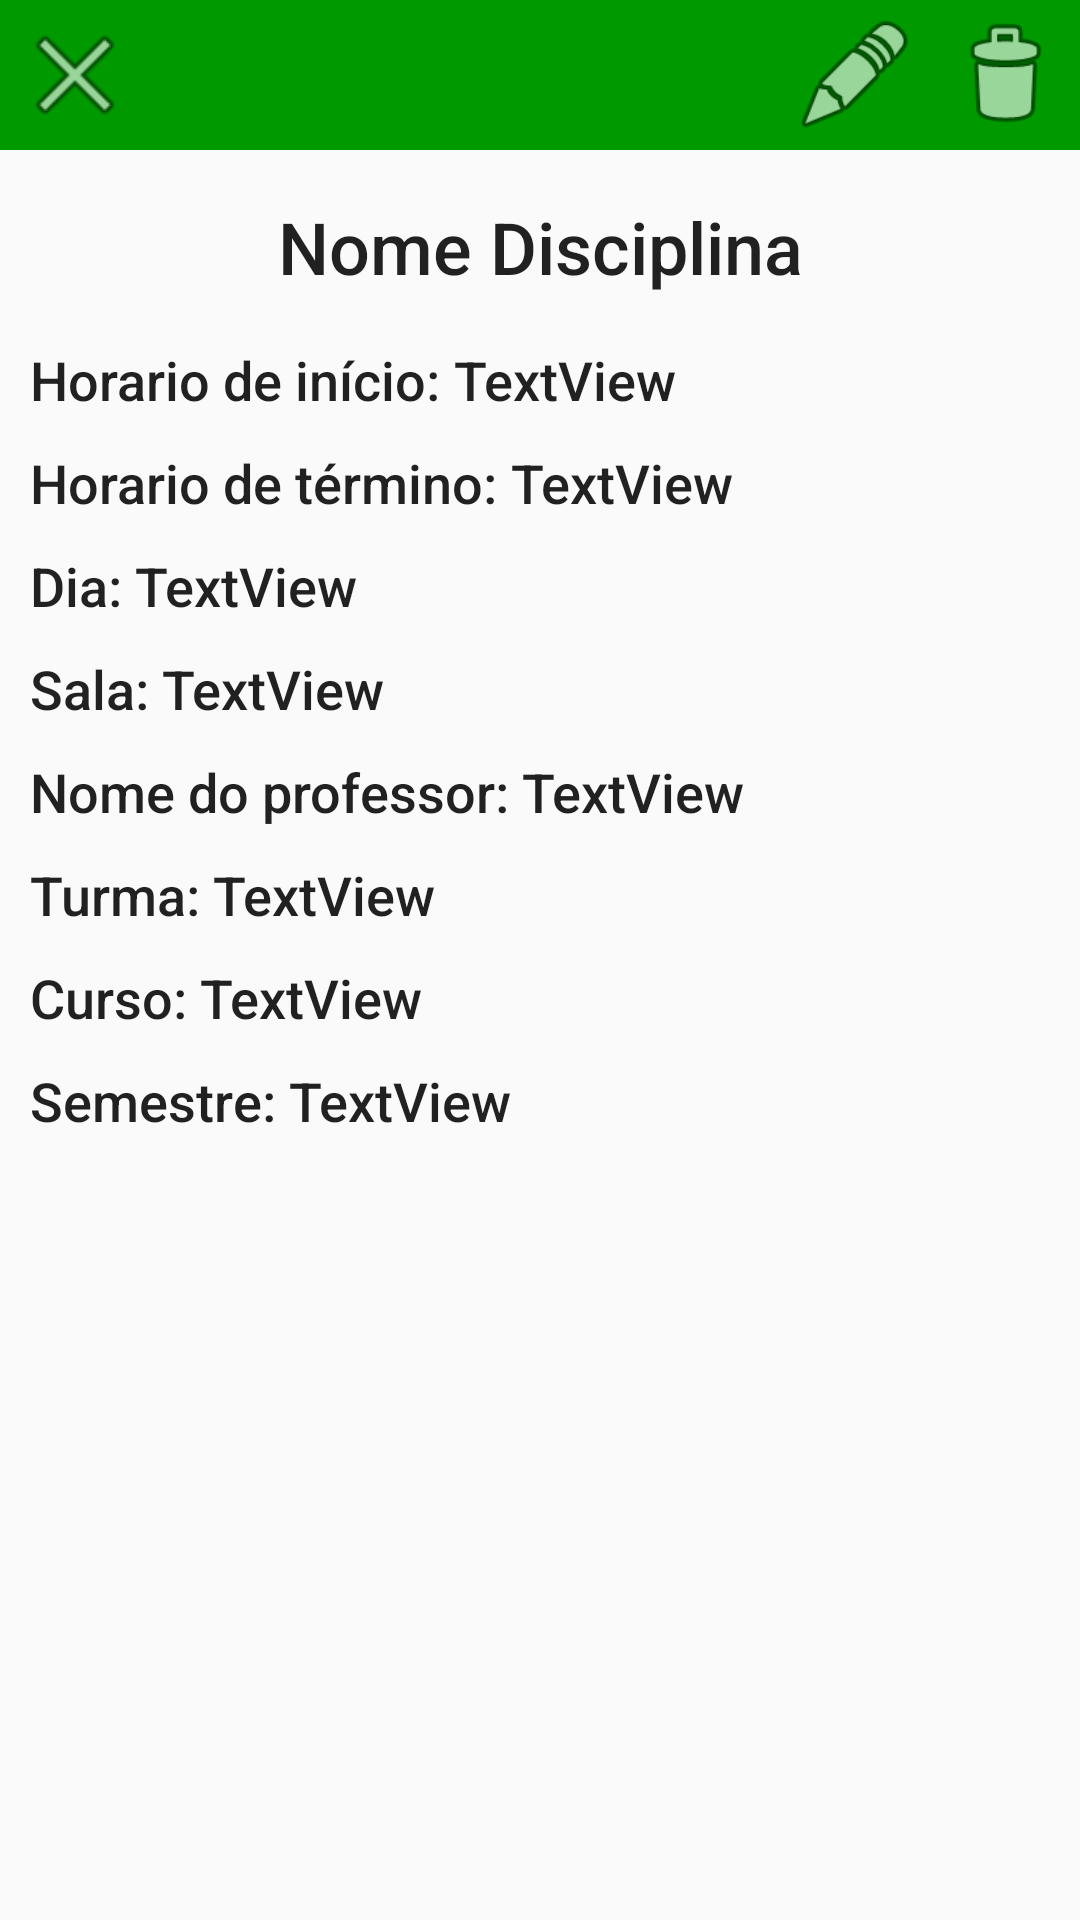

Named icons in this screenshot (1080px×1920px) and their centers, (x,y):
close clear cancel: (75,75)
delete: (1005,73)
edit: (854,74)
